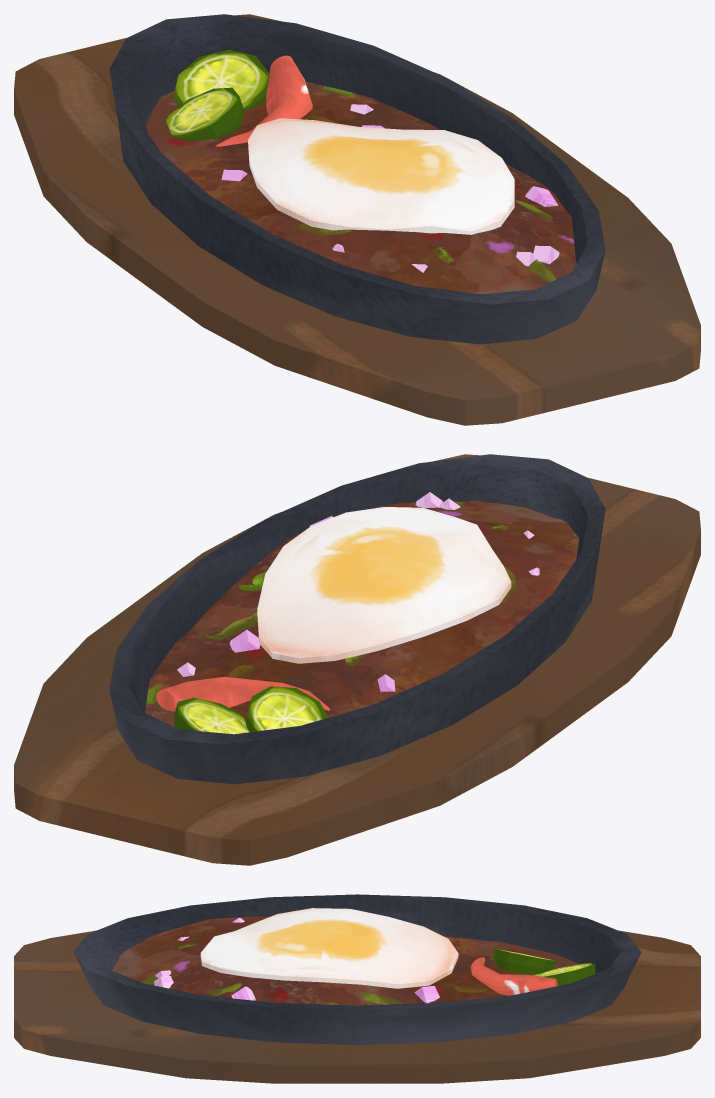
3 views of the same model, one above another, from view 1: azimuth 30°, elevation 25°; view 2: azimuth 150°, elevation 25°; view 3: azimuth 270°, elevation 25° (orthographic). The views are drawn at different scales.
Visible parts, largest first — view 1: SisigPlate, Plate, Meat, FriedEgg, Calamansi, Calamansi_2, Chili; view 2: SisigPlate, Plate, FriedEgg, Meat, Calamansi_2, Chili, Calamansi; view 3: SisigPlate, Plate, FriedEgg, Meat, Chili, Calamansi_2, Calamansi.
Boxes of the visible parts, <box> form: SisigPlate: <box>14,14,700,425</box>; Plate: <box>109,14,605,344</box>; Meat: <box>146,81,576,294</box>; FriedEgg: <box>248,118,514,234</box>; Calamansi: <box>173,49,269,110</box>; Calamansi_2: <box>166,87,243,141</box>; Chili: <box>215,55,312,146</box>; SisigPlate: <box>14,454,700,865</box>; Plate: <box>109,454,605,784</box>; FriedEgg: <box>257,507,511,663</box>; Meat: <box>145,501,578,726</box>; Calamansi_2: <box>245,686,328,732</box>; Chili: <box>156,676,330,711</box>; Calamansi: <box>174,697,249,734</box>; SisigPlate: <box>14,930,700,1083</box>; Plate: <box>73,894,641,1045</box>; FriedEgg: <box>200,908,458,988</box>; Meat: <box>112,916,579,1005</box>; Chili: <box>470,957,557,995</box>; Calamansi_2: <box>493,948,555,974</box>; Calamansi: <box>533,963,595,985</box>.
Size of the model in its own units: 2.15 by 0.4855 by 4.06.
7 materials, 7 textured.
